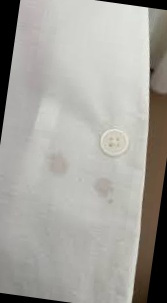wine: (91, 181, 124, 208), (46, 147, 75, 175)
